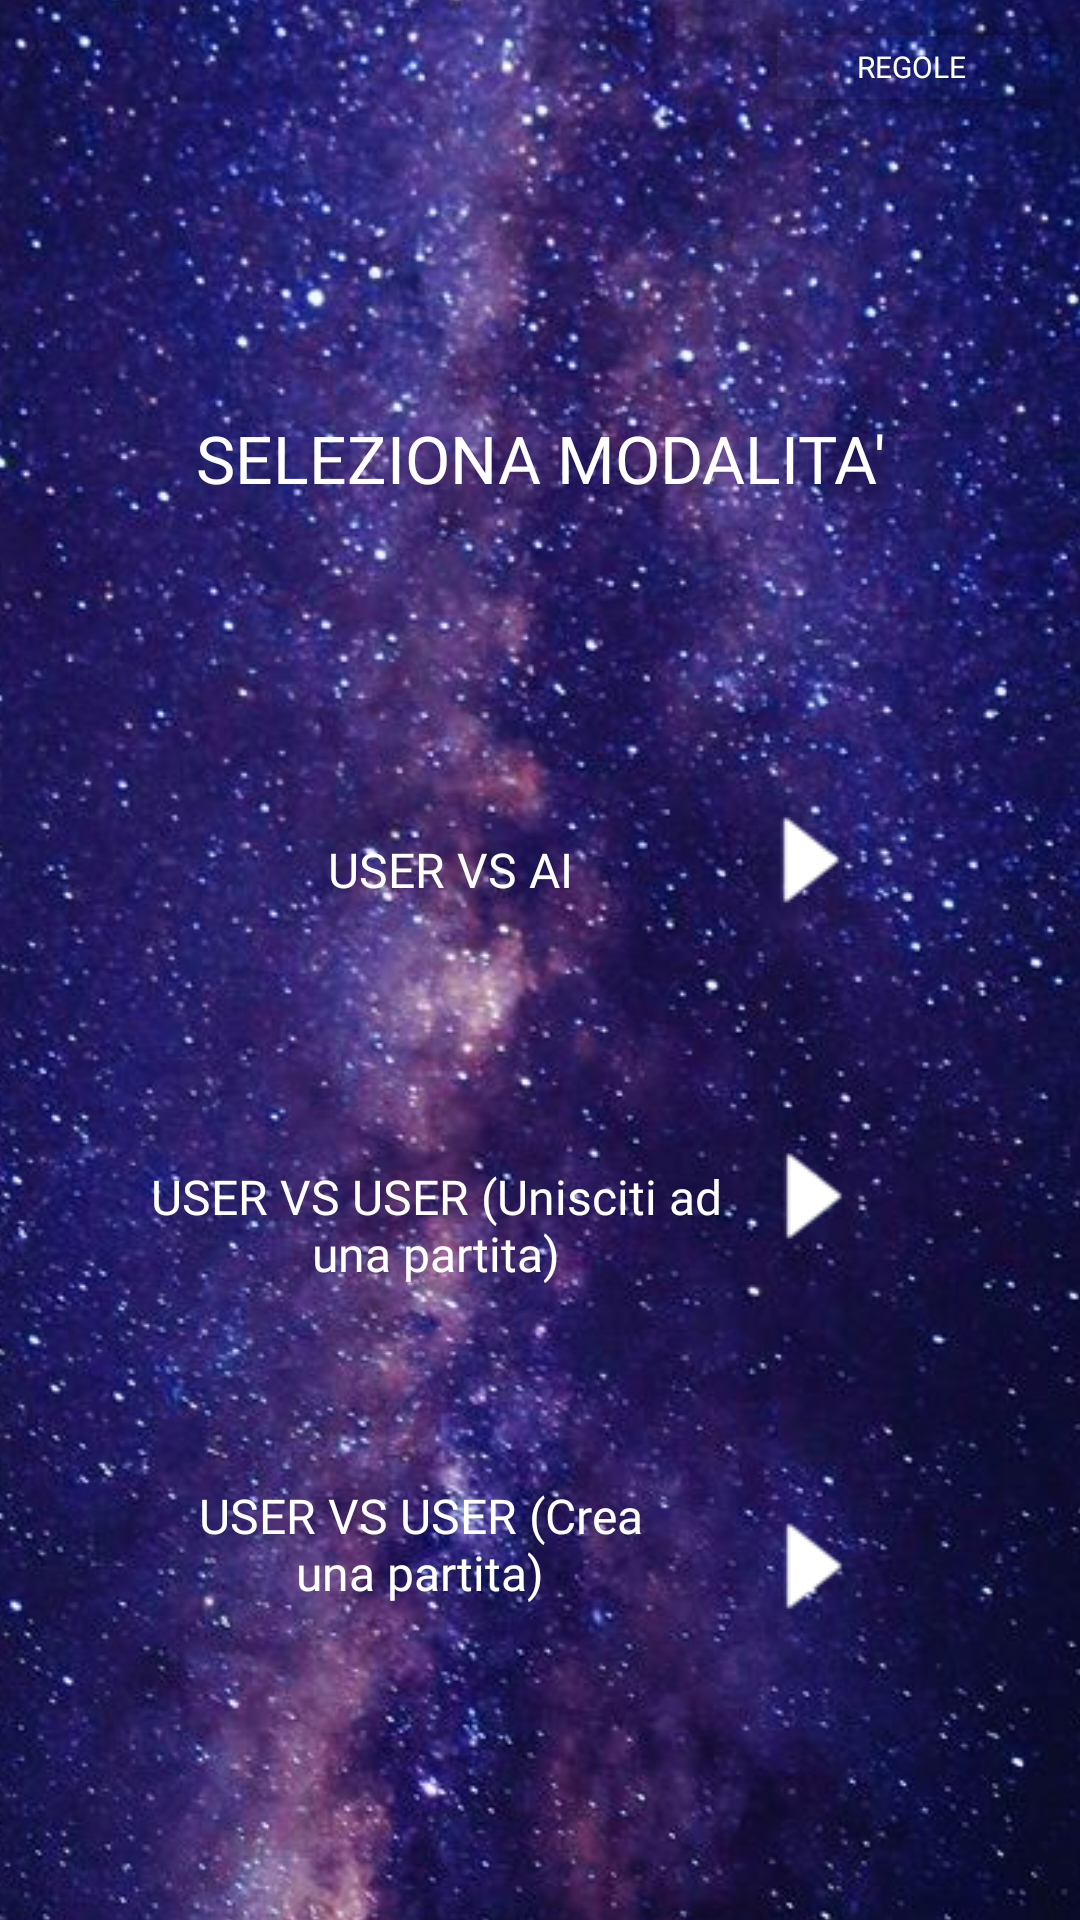

Named icons in this screenshot (1080 × 1920) and their centers, [x,y]:
right: [808,860], [811,1190], [811,1566]
